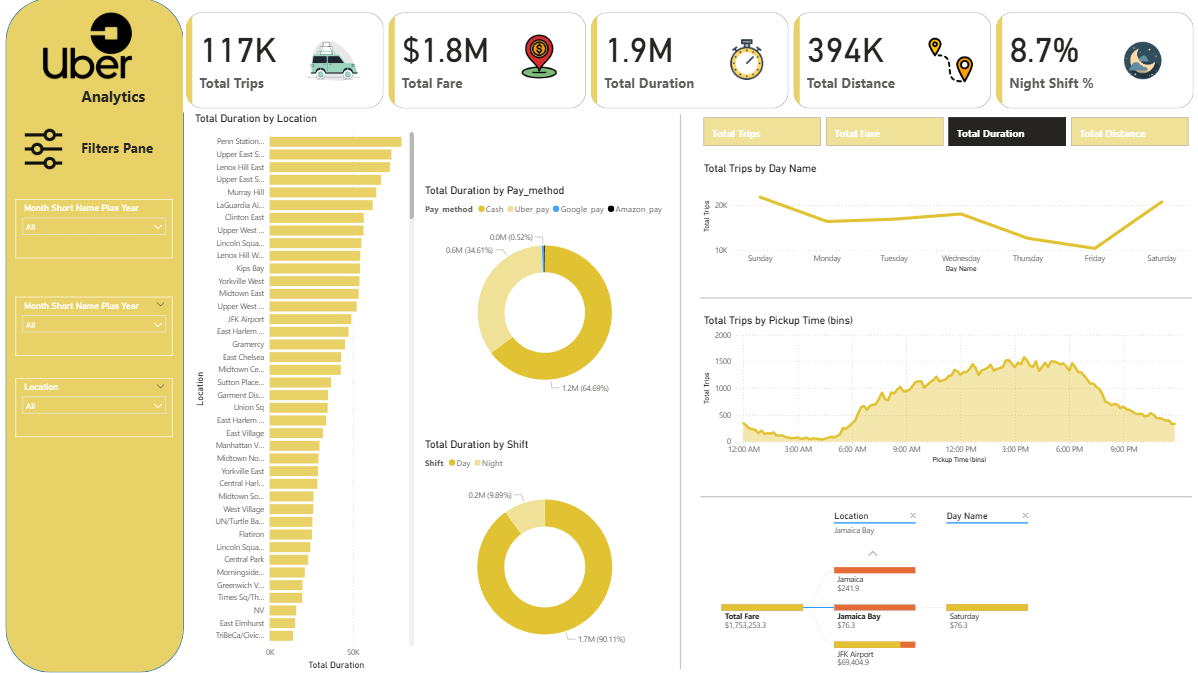

What the dashboard file says about the page in this screenshot:
{"tool":"powerbi","page":{"name":"Page 1","canvas":[1920,1080],"ordinal":0},"visuals":[{"type":"shape","box":[11.3,0,285.4,1079.3],"z":0},{"type":"textbox","box":[128.5,136.1,128.5,56.7],"z":1000},{"type":"image","box":[27.5,16.5,229.3,119.2],"z":2000},{"type":"image","box":[27.5,196.3,89.9,91.7],"z":3000},{"type":"textbox","box":[128.5,219.3,151.2,45.4],"z":4000},{"type":"slicer","fields":{"Values":["DateTable.Month Short Name Plus Year"]},"box":[28.4,321.3,251.4,94.5],"z":5000},{"type":"slicer","fields":{"Values":["DateTable.Month Short Name Plus Year"]},"box":[28.4,478.2,251.4,94.5],"z":6000},{"type":"cardVisual","fields":{"Data":["TripDetails.Total Trips","TripDetails.Total Fare","TripDetails.Total Duration","TripDetails.Total Distance","TripDetails.Night Shift %"]},"box":[296.8,17,1623.6,164.4],"z":7000},{"type":"slicer","fields":{"Values":["Location.Location"]},"box":[28.4,608.6,251.4,94.5],"z":8000},{"type":"image","box":[476.3,39.7,122.9,121],"z":9000},{"type":"image","box":[1141.6,52.9,111.5,94.5],"z":10000},{"type":"image","box":[1483.8,58.6,81.3,83.2],"z":11000},{"type":"image","box":[1759.7,45.4,143.7,107.7],"z":12000},{"type":"image","box":[790.1,52.9,151.2,83.2],"z":13000},{"type":"clusteredBarChart","fields":{"Y":["TripDetails.Total Duration"],"Category":["Location.Location"]},"box":[310,181.5,361,897.8],"z":14000},{"type":"donutChart","fields":{"Y":["TripDetails.Total Duration"],"Category":["TripDetails.Pay_method"]},"box":[678,298,394,362],"z":15000},{"type":"donutChart","fields":{"Y":["TripDetails.Total Duration"],"Category":["TripDetails.Shift"]},"box":[678,704,394,364],"z":16000},{"type":"advancedSlicerVisual","fields":{"Values":["Toggle.Toggle"]},"box":[1124,186,786,56],"z":17000},{"type":"lineChart","fields":{"Category":["DateTable.Day Name"],"Y":["TripDetails.Total Trips"]},"box":[1124,262,786,182],"z":18000},{"type":"areaChart","fields":{"Y":["TripDetails.Total Trips"],"Category":["TripDetails.Pickup Time (bins)"]},"box":[1124,506,786,244],"z":19000},{"type":"decompositionTreeVisual","fields":{"Analyze":["TripDetails.Total Fare"],"ExplainBy":["Location.Location","DateTable.Day Name"]},"box":[1124,804,786,276],"z":20000},{"type":"shape","box":[1124,330,786,300],"z":20001},{"type":"shape","box":[1124,660,786,276],"z":20002},{"type":"shape","box":[942,186,300,888],"z":20003}]}

Visuals, with their boxes in screenshot pixels (x1, y1, x2, y2), scaled from the page's 1920x1080 canvas onto the 1198x673 screenshot:
shape: {"left": 7, "top": 0, "right": 185, "bottom": 672}
textbox: {"left": 80, "top": 85, "right": 160, "bottom": 120}
image: {"left": 17, "top": 10, "right": 160, "bottom": 85}
image: {"left": 17, "top": 122, "right": 73, "bottom": 179}
textbox: {"left": 80, "top": 137, "right": 175, "bottom": 165}
slicer - DateTable.Month Short Name Plus Year: {"left": 18, "top": 200, "right": 175, "bottom": 259}
slicer - DateTable.Month Short Name Plus Year: {"left": 18, "top": 298, "right": 175, "bottom": 357}
cardVisual - TripDetails.Total Trips x TripDetails.Total Fare: {"left": 185, "top": 11, "right": 1197, "bottom": 113}
slicer - Location.Location: {"left": 18, "top": 379, "right": 175, "bottom": 438}
image: {"left": 297, "top": 25, "right": 374, "bottom": 100}
image: {"left": 712, "top": 33, "right": 782, "bottom": 92}
image: {"left": 926, "top": 37, "right": 977, "bottom": 88}
image: {"left": 1098, "top": 28, "right": 1188, "bottom": 95}
image: {"left": 493, "top": 33, "right": 587, "bottom": 85}
clusteredBarChart - TripDetails.Total Duration x Location.Location: {"left": 193, "top": 113, "right": 419, "bottom": 672}
donutChart - TripDetails.Total Duration x TripDetails.Pay_method: {"left": 423, "top": 186, "right": 669, "bottom": 411}
donutChart - TripDetails.Total Duration x TripDetails.Shift: {"left": 423, "top": 439, "right": 669, "bottom": 666}
advancedSlicerVisual - Toggle.Toggle: {"left": 701, "top": 116, "right": 1192, "bottom": 151}
lineChart - DateTable.Day Name x TripDetails.Total Trips: {"left": 701, "top": 163, "right": 1192, "bottom": 277}
areaChart - TripDetails.Total Trips x TripDetails.Pickup Time (bins): {"left": 701, "top": 315, "right": 1192, "bottom": 467}
decompositionTreeVisual - TripDetails.Total Fare x Location.Location: {"left": 701, "top": 501, "right": 1192, "bottom": 672}
shape: {"left": 701, "top": 206, "right": 1192, "bottom": 393}
shape: {"left": 701, "top": 411, "right": 1192, "bottom": 583}
shape: {"left": 588, "top": 116, "right": 775, "bottom": 669}
